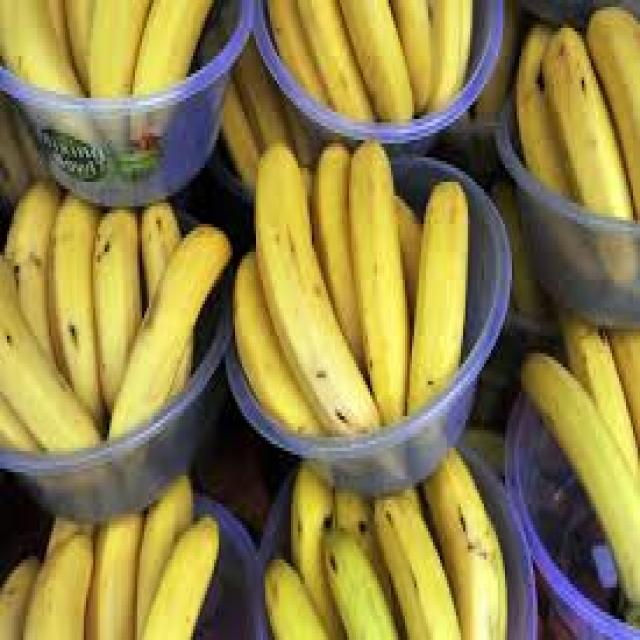banana: (233, 141, 462, 413), (0, 176, 232, 438), (264, 461, 507, 637), (4, 480, 226, 640), (522, 309, 640, 609), (519, 7, 640, 210), (264, 2, 470, 113), (2, 5, 208, 76)
